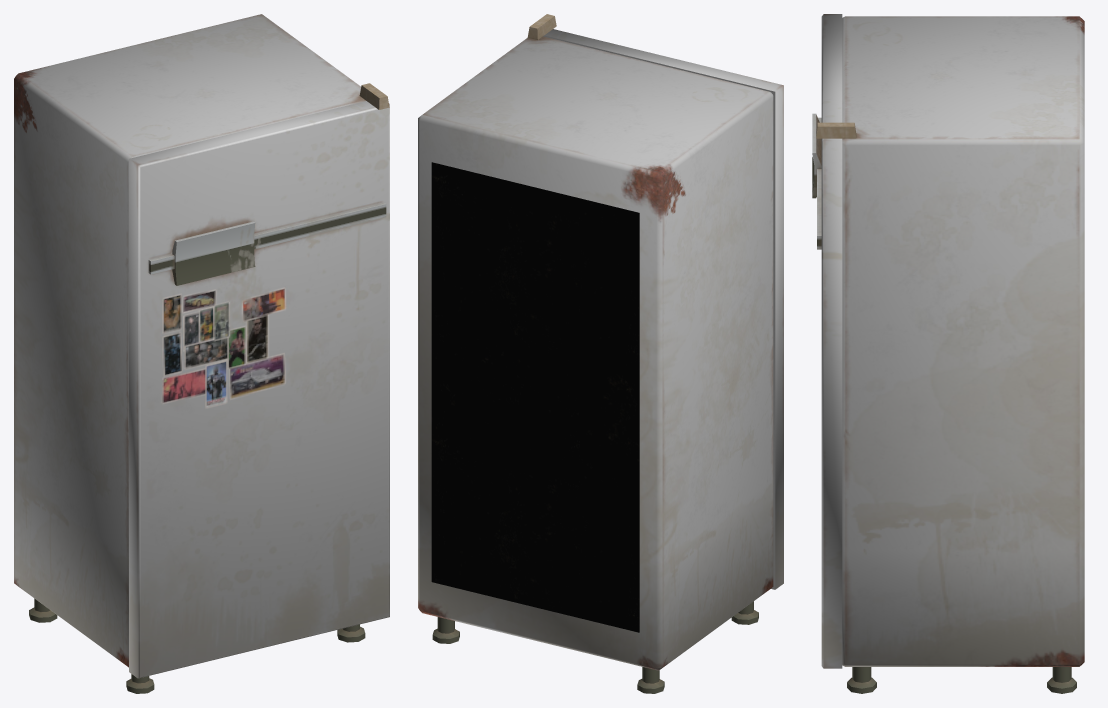
File: old_fridge.glb
The picture shows the model from 3 angles, left to right: view 1: azimuth 30°, elevation 25°; view 2: azimuth 150°, elevation 25°; view 3: azimuth 270°, elevation 25°; orthographic projection. The views are drawn at different scales.
Visible parts, largest first — view 1: Box031, Box028, Box035; view 2: Box028, Plane002, Box031, Cylinder015, Cylinder014; view 3: Box028, Box031, Box035, Box037, Cylinder013, Cylinder015.
Boxes of the visible parts, x1=… form: Box031: x1=129, y1=101, x2=389, y2=678; Box028: x1=14, y1=14, x2=365, y2=667; Box035: x1=148, y1=202, x2=386, y2=285; Box028: x1=418, y1=36, x2=773, y2=670; Plane002: x1=431, y1=162, x2=639, y2=632; Box031: x1=543, y1=29, x2=783, y2=589; Cylinder015: x1=432, y1=617, x2=459, y2=643; Cylinder014: x1=637, y1=667, x2=664, y2=693; Box028: x1=842, y1=16, x2=1084, y2=666; Box031: x1=821, y1=14, x2=842, y2=668; Box035: x1=812, y1=113, x2=821, y2=249; Box037: x1=816, y1=122, x2=856, y2=138; Cylinder013: x1=847, y1=667, x2=876, y2=693; Cylinder015: x1=1047, y1=667, x2=1076, y2=693.
Bounding box in the file's own units: 0.601 × 1.26 × 0.5638.
Materials: 2 (2 with a texture image).
